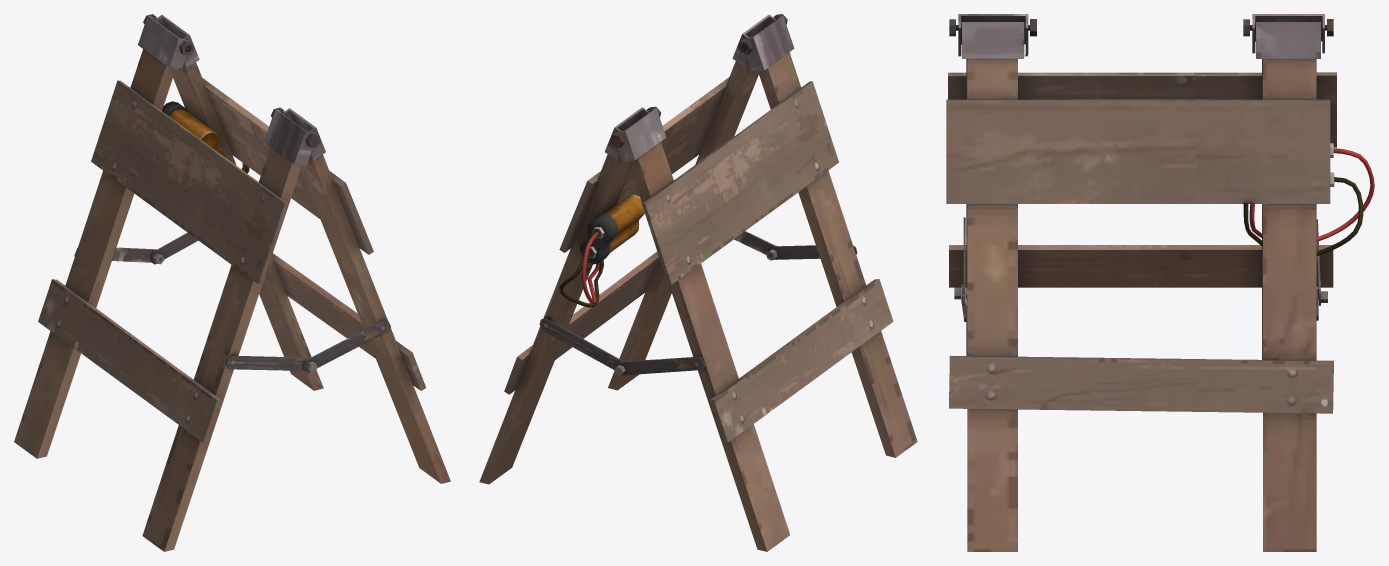
3 renders of one model, left to right at view 1: azimuth 30°, elevation 25°; view 2: azimuth 150°, elevation 25°; view 3: azimuth 270°, elevation 25°, orthographic. The views are drawn at different scales.
Parts seen in each view (by area): view 1: body0_model0_lod0_mesh0; view 2: body0_model0_lod0_mesh0; view 3: body0_model0_lod0_mesh0.
Boxes of the visible parts, x1,y1,x2,y2 form: body0_model0_lod0_mesh0: (14,14,450,551); body0_model0_lod0_mesh0: (479,14,917,551); body0_model0_lod0_mesh0: (946,14,1374,551).
Bounding box in the file's own units: 47.3 × 61.34 × 52.56.
1 material, 1 textured.
